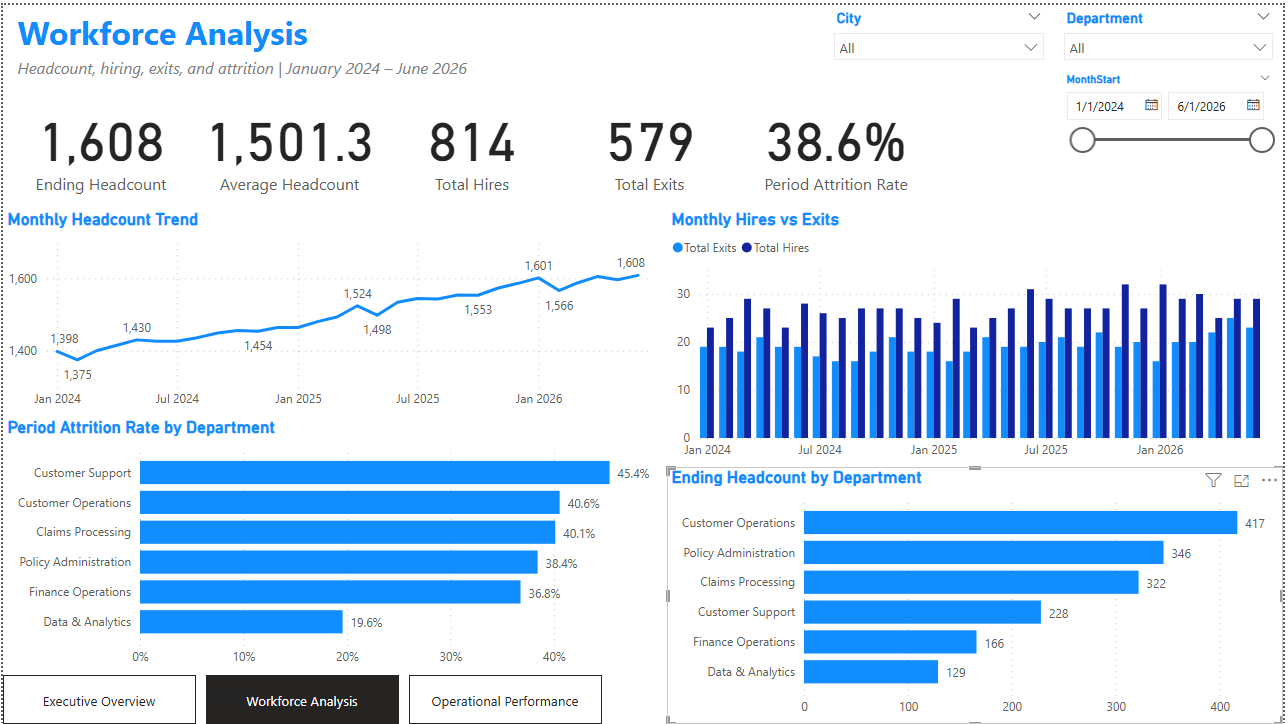

The page's visual inventory and layout, read from the dashboard file:
{"tool":"powerbi","page":{"name":"Workforce Analysis","canvas":[1280,720],"ordinal":1},"visuals":[{"type":"textbox","box":[9.7,0,501.5,63.2],"z":0},{"type":"textbox","box":[9.7,46.7,469.4,33],"z":1000},{"type":"card","fields":{"Values":["FactOperations.Ending Headcount"]},"box":[0,86.5,196.3,107.9],"z":2000},{"type":"card","fields":{"Values":["FactOperations.Average Headcount"]},"box":[196.3,86.5,180.8,107.9],"z":3000},{"type":"card","fields":{"Values":["FactOperations.Total Hires"]},"box":[377.1,86.5,183.7,107.9],"z":4000},{"type":"card","fields":{"Values":["FactOperations.Total Exits"]},"box":[560.8,86.5,171.1,107.9],"z":5000},{"type":"card","fields":{"Values":["FactOperations.Attrition Rate"]},"box":[731.8,86.5,202.2,107.9],"z":6000},{"type":"lineChart","title":"Monthly Headcount Trend","fields":{"Category":["DimDate.MonthStart"],"Y":["FactOperations.Ending Headcount"]},"box":[0,204,664,208],"z":7000},{"type":"clusteredColumnChart","title":"Monthly Hires vs Exits","fields":{"Category":["DimDate.MonthStart"],"Y":["FactOperations.Total Exits","FactOperations.Total Hires"]},"box":[663.8,204.1,616.2,258.5],"z":8000},{"type":"clusteredBarChart","title":"Period Attrition Rate by Department","fields":{"Y":["FactOperations.Attrition Rate"],"Category":["DimDepartment.Department"]},"box":[0,412,664,258],"z":9000},{"type":"clusteredBarChart","title":"Ending Headcount by Department","fields":{"Category":["DimDepartment.Department"],"Y":["FactOperations.Ending Headcount"]},"box":[663.8,461.7,616.2,258.5],"z":10000},{"type":"slicer","fields":{"Values":["DimDepartment.Department"]},"box":[1050.6,0,229.4,63.2],"z":11000},{"type":"slicer","fields":{"Values":["DimLocation.City"]},"box":[821.3,0,229.4,63.2],"z":12000},{"type":"slicer","fields":{"Values":["DimDate.MonthStart"]},"box":[1051,63,229,99],"z":13000},{"type":"pageNavigator","box":[0,670,600,50],"z":14000}]}

Visuals, with their boxes in screenshot pixels (x1, y1, x2, y2), scaled from the page's 1280x720 canvas onto the 1288x724 screenshot:
textbox: BBox(10, 0, 514, 64)
textbox: BBox(10, 47, 482, 80)
card - FactOperations.Ending Headcount: BBox(0, 87, 198, 195)
card - FactOperations.Average Headcount: BBox(198, 87, 379, 195)
card - FactOperations.Total Hires: BBox(379, 87, 564, 195)
card - FactOperations.Total Exits: BBox(564, 87, 736, 195)
card - FactOperations.Attrition Rate: BBox(736, 87, 940, 195)
"Monthly Headcount Trend" lineChart: BBox(0, 205, 668, 414)
"Monthly Hires vs Exits" clusteredColumnChart: BBox(668, 205, 1287, 465)
"Period Attrition Rate by Department" clusteredBarChart: BBox(0, 414, 668, 674)
"Ending Headcount by Department" clusteredBarChart: BBox(668, 464, 1287, 723)
slicer - DimDepartment.Department: BBox(1057, 0, 1287, 64)
slicer - DimLocation.City: BBox(826, 0, 1057, 64)
slicer - DimDate.MonthStart: BBox(1058, 63, 1287, 163)
pageNavigator: BBox(0, 674, 604, 723)
